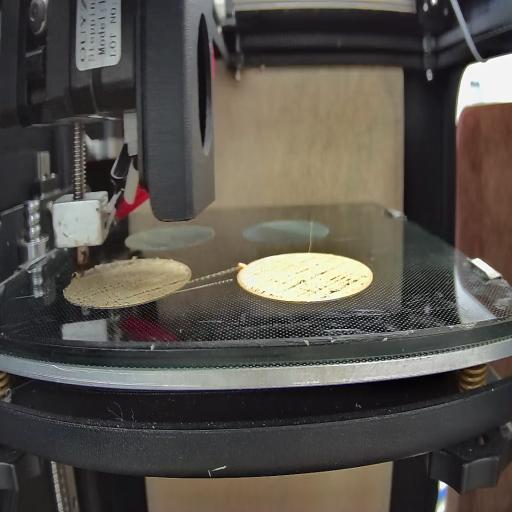under_extrusion: (251, 270, 372, 298), (94, 278, 183, 303)
